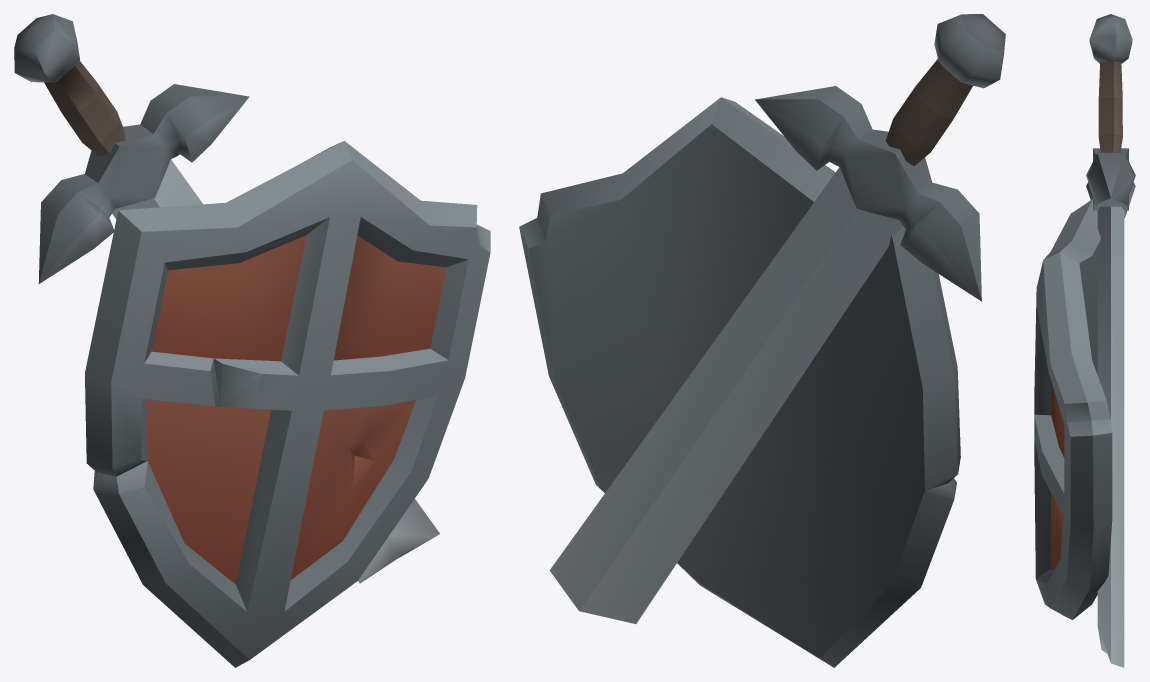
Rendered from sword_shield_broken.obj.
3 renders of one model, left to right at view 1: azimuth 30°, elevation 25°; view 2: azimuth 150°, elevation 25°; view 3: azimuth 270°, elevation 25°, orthographic. The views are drawn at different scales.
Parts seen in each view (by area): view 1: sword_shield_broken; view 2: sword_shield_broken; view 3: sword_shield_broken.
Boxes of the visible parts, x1,y1,x2,y2 form: sword_shield_broken: [14, 14, 490, 667]; sword_shield_broken: [519, 14, 1005, 667]; sword_shield_broken: [1034, 14, 1135, 667].
Bounding box in the file's own units: 1.43 × 1.96 × 0.3357.
1 material, 1 textured.
